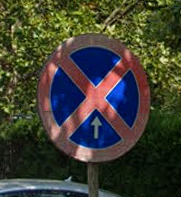oprirea_interzisa: (36, 33, 154, 167)
